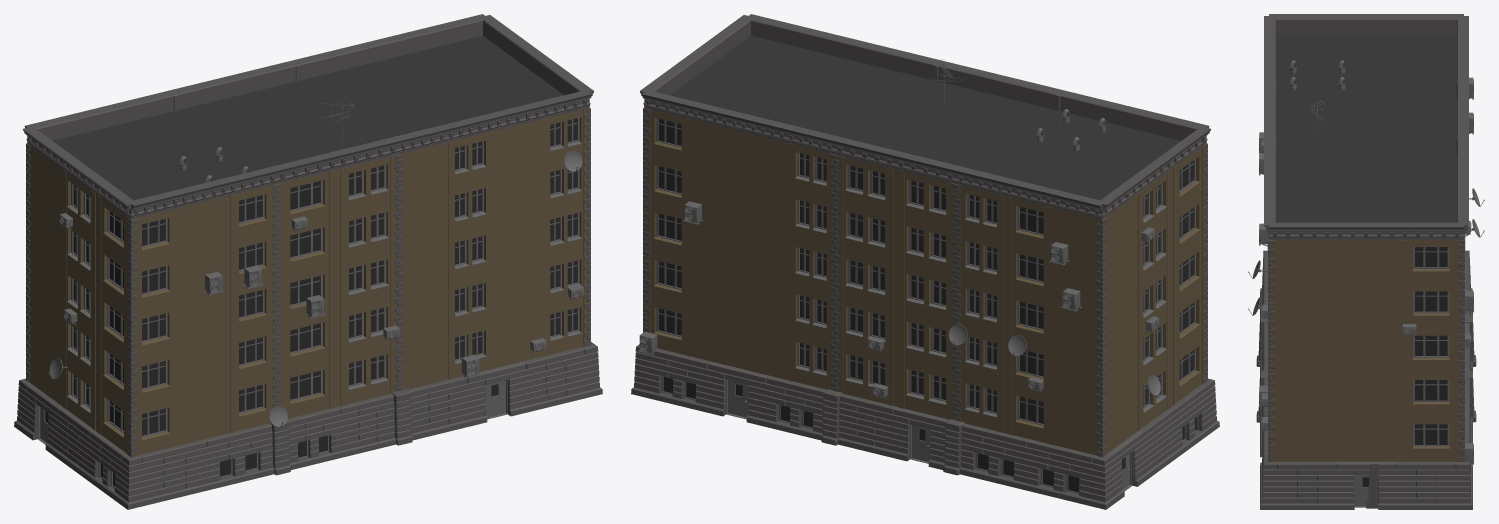
Rendered from building_1.fbx.
The picture shows the model from 3 angles, left to right: view 1: azimuth 30°, elevation 25°; view 2: azimuth 150°, elevation 25°; view 3: azimuth 270°, elevation 25°; orthographic projection. The views are drawn at different scales.
Parts seen in each view (by area): view 1: building_base; view 2: building_base; view 3: building_base, ground_floor_wall_03.
Boxes of the visible parts, <box> form: building_base: <box>14,14,602,509</box>; building_base: <box>631,14,1219,509</box>; building_base: <box>1248,14,1484,509</box>; ground_floor_wall_03: <box>1366,464,1378,508</box>.
Bounding box in the file's own units: 3217 × 2098 × 1450.
